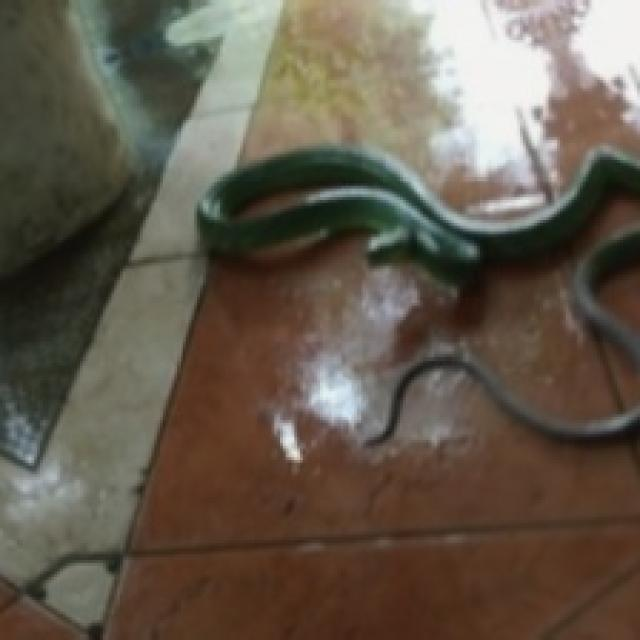red-tailed green ratsnake: (197, 146, 637, 280)
